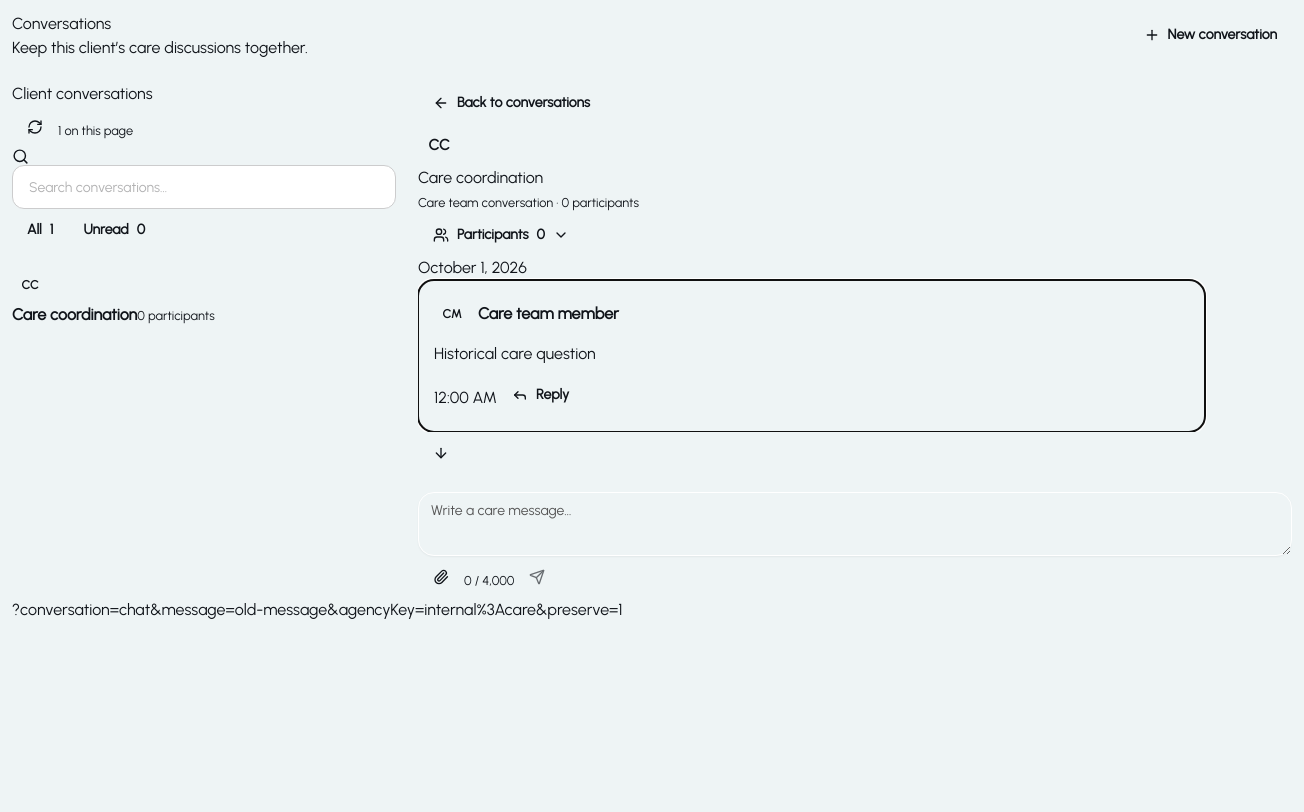
Test case: returns to the latest scoped messages after sending from a notification anchor and displays the confirmed response
This screenshot has width=1304, height=812.
Expected: the text "Historical care question" is shown, [434,344,596,363]
Expected: the button named "Go to latest message" is shown, [418,432,464,474]
Type "I will follow up with the care team." into the text box labelled "message" at (855, 524), box [418,492,1292,556]
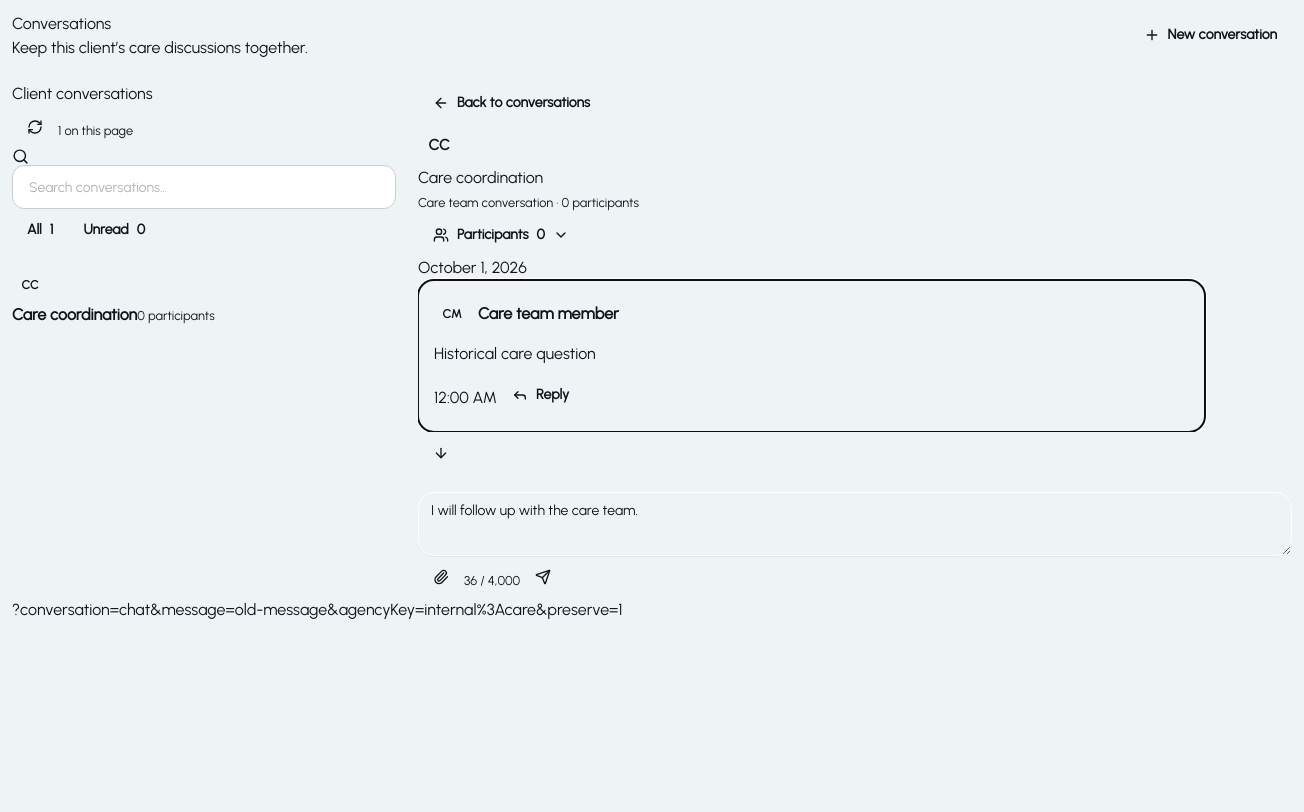
Click the button named "Send message" at (543, 577), box [520,556,566,598]
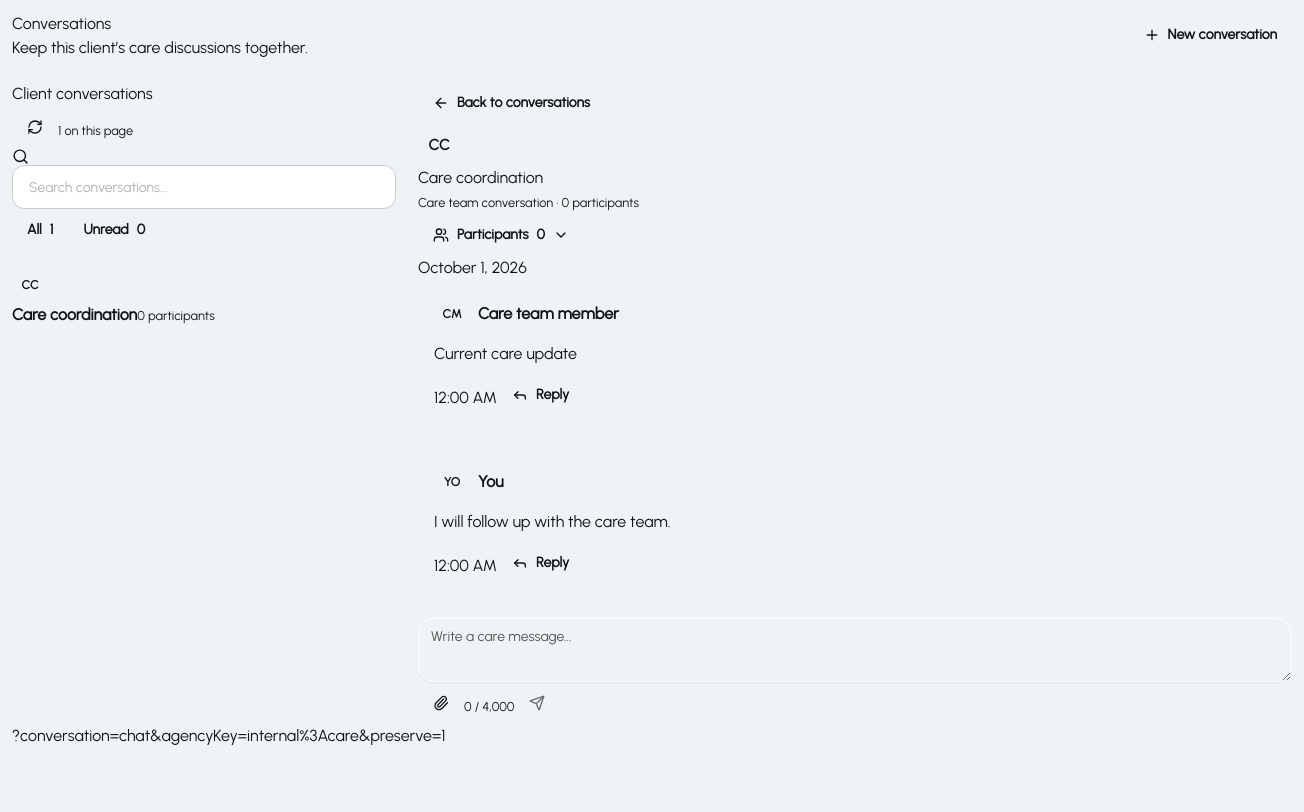
Result: the text "I will follow up with the care team." is shown at [434,512,671,531]
Result: the text "Current care update" is shown at [434,344,577,363]
